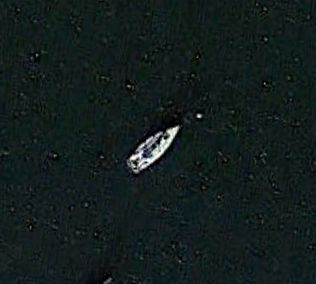boat: (126, 122, 185, 174)
